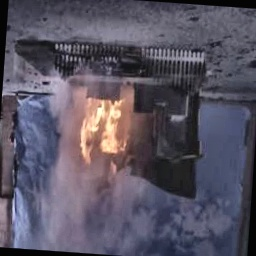fire: (75, 92, 132, 168)
